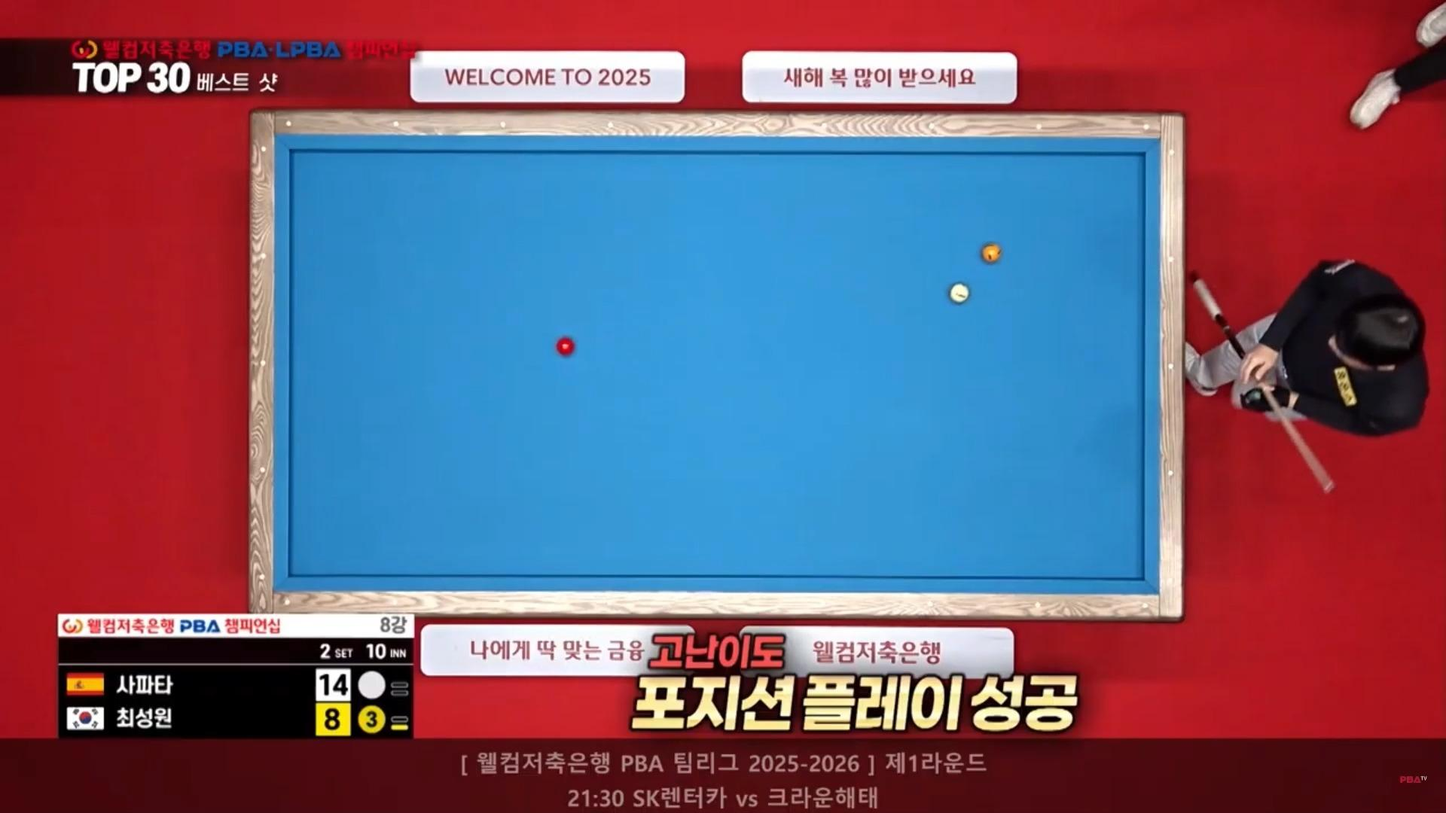Red: (554, 339, 578, 357)
White: (948, 285, 972, 305)
Yellow: (979, 243, 1003, 262)
